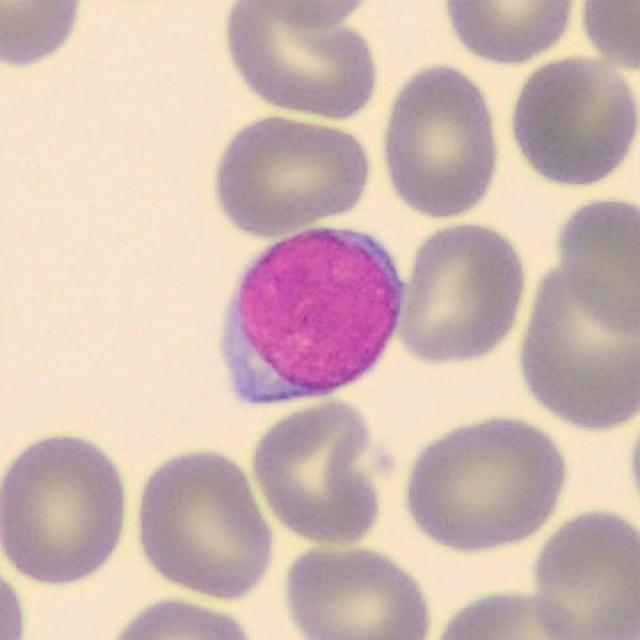Linfocito: (222, 229, 405, 404)
